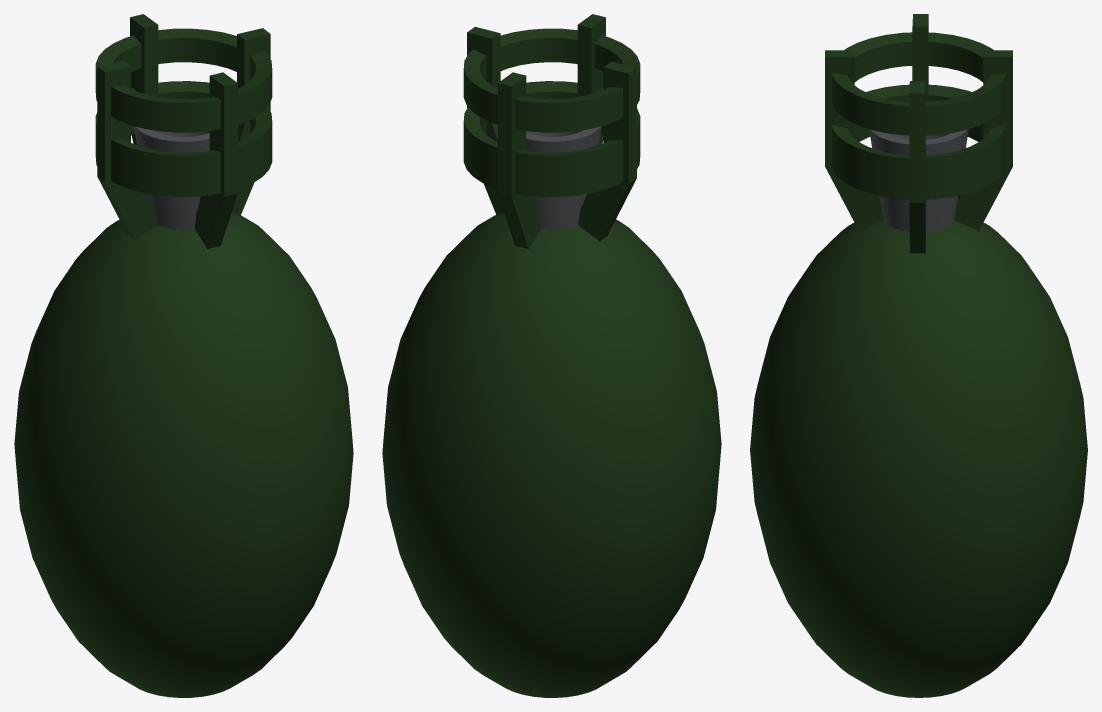
Rendered from 007Bomb.fbx.
3 views of the same model, side by side, from view 1: azimuth 30°, elevation 25°; view 2: azimuth 150°, elevation 25°; view 3: azimuth 270°, elevation 25° (orthographic).
Visible parts, largest first — view 1: 球, 円柱; view 2: 球, 円柱; view 3: 球, 円柱.
Part boxes in pixels (<box>): 球: <box>14,14,353,697</box>; 円柱: <box>134,98,209,229</box>; 球: <box>382,14,721,697</box>; 円柱: <box>526,98,601,229</box>; 球: <box>750,14,1087,697</box>; 円柱: <box>869,129,968,232</box>.
Size of the model in its own units: 225 by 468 by 225.
